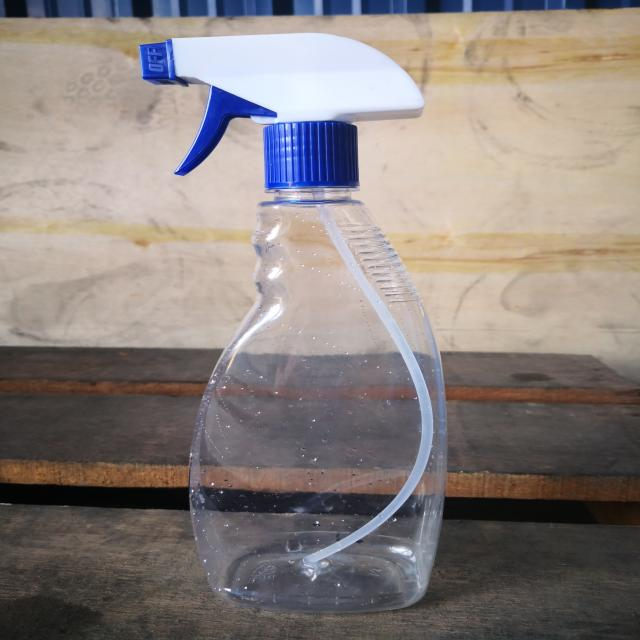plastic: (142, 32, 442, 612)
